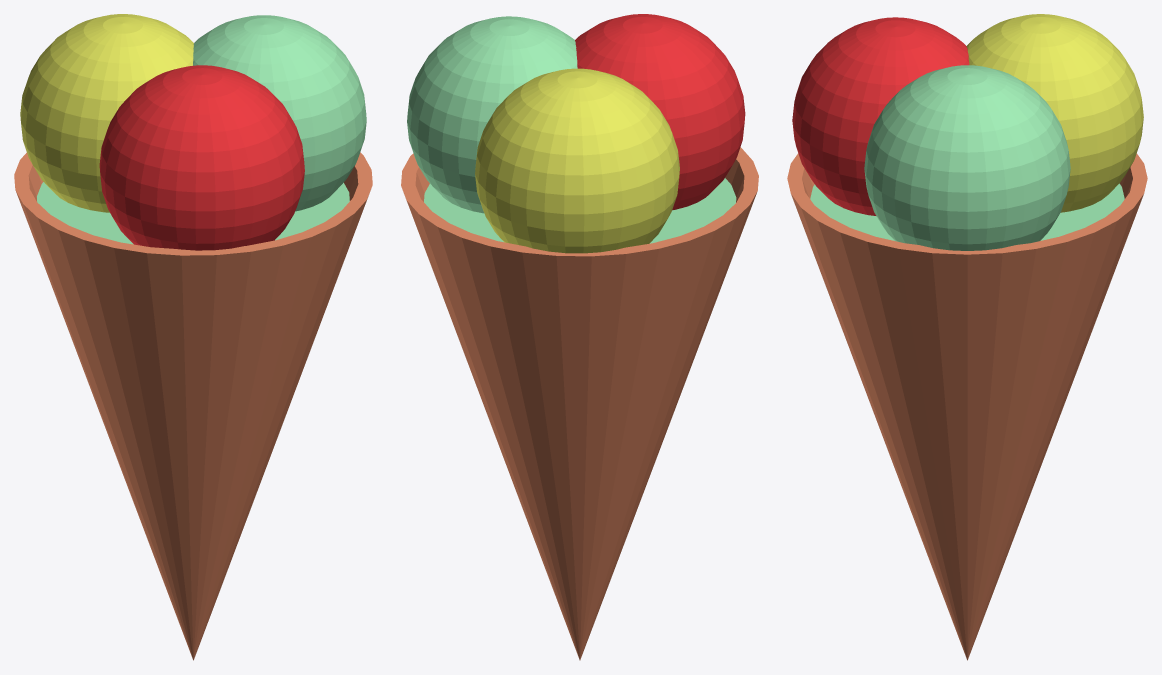
File: IceCreamCone.fbx
3 renders of one model, left to right at view 1: azimuth 30°, elevation 25°; view 2: azimuth 150°, elevation 25°; view 3: azimuth 270°, elevation 25°, orthographic.
Visible parts, largest first — view 1: Cone, Sphere.002, Sphere.001, Sphere, Circle; view 2: Cone, Sphere.001, Sphere, Sphere.002, Circle; view 3: Cone, Sphere, Sphere.001, Sphere.002, Circle.
Part boxes in pixels (x1=…): Cone: x1=14, y1=152, x2=372, y2=660; Sphere.002: x1=99, y1=65, x2=304, y2=250; Sphere.001: x1=20, y1=14, x2=193, y2=212; Sphere: x1=193, y1=15, x2=366, y2=211; Circle: x1=37, y1=182, x2=349, y2=244; Cone: x1=401, y1=147, x2=758, y2=660; Sphere.001: x1=475, y1=68, x2=679, y2=253; Sphere: x1=407, y1=16, x2=577, y2=213; Sphere.002: x1=575, y1=14, x2=745, y2=210; Circle: x1=424, y1=178, x2=736, y2=243; Cone: x1=787, y1=153, x2=1147, y2=660; Sphere: x1=864, y1=65, x2=1070, y2=250; Sphere.001: x1=966, y1=14, x2=1143, y2=212; Sphere.002: x1=792, y1=17, x2=969, y2=215; Circle: x1=810, y1=183, x2=1124, y2=240.
Bounding box in the file's own units: 110 × 207 × 109.
